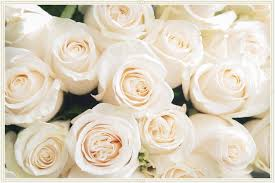lale: (68, 99, 145, 182), (2, 47, 65, 133), (194, 110, 266, 183), (103, 39, 171, 112), (135, 104, 200, 167), (46, 25, 102, 96), (189, 57, 249, 121), (11, 122, 71, 183), (146, 17, 206, 73), (86, 0, 155, 44)
